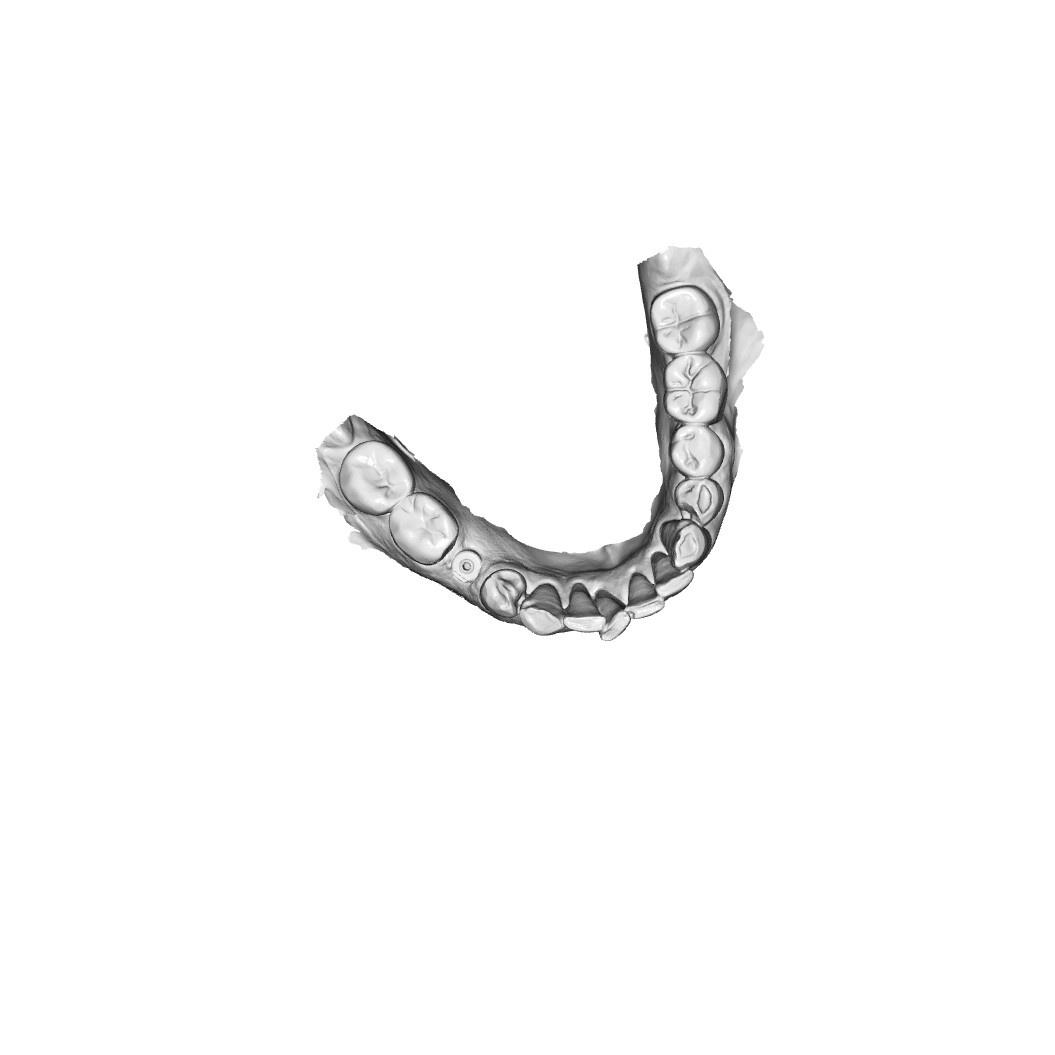canine: (518, 583, 568, 638), (660, 516, 709, 570)
implant: (449, 551, 483, 587)
incisor: (562, 584, 606, 638), (624, 573, 666, 623), (651, 553, 695, 600), (595, 592, 633, 645)
molar: (335, 439, 416, 515), (649, 285, 724, 358), (387, 491, 459, 567), (660, 349, 728, 426)
premolar: (669, 424, 728, 481), (480, 565, 526, 623), (673, 475, 724, 525)
